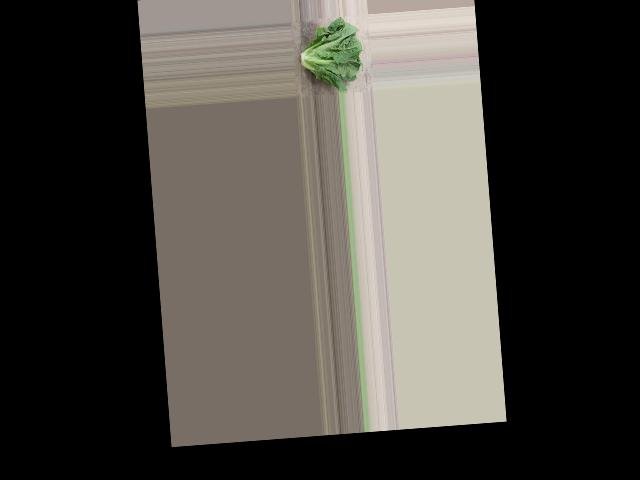lettuce: (293, 18, 367, 95)
